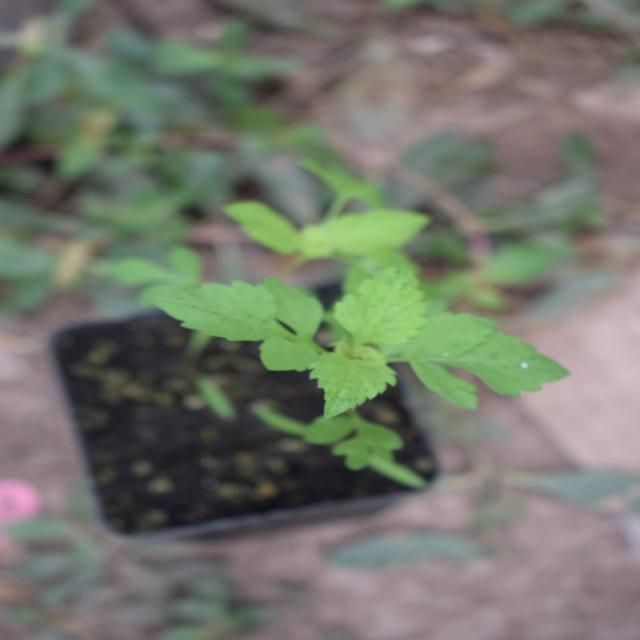Bidens pilosa: (201, 129, 421, 564)
